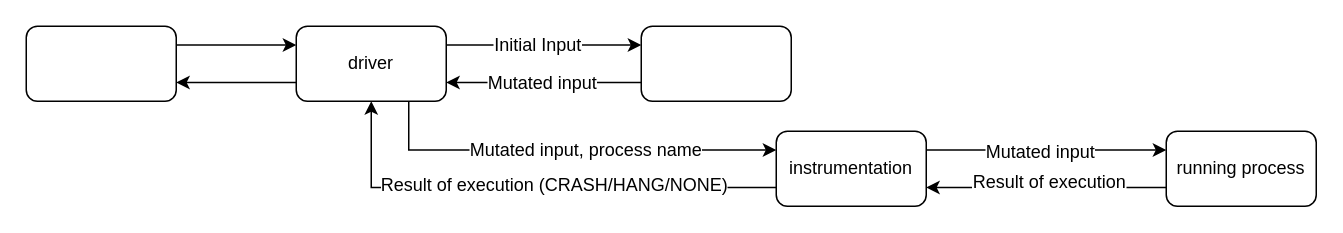
Image size: 1343x233. Some labels were removed from this diagram. Each missing label, with the centre of its shape:
fuzzer.exe: the point at 100,63
mutator: the point at 715,63
